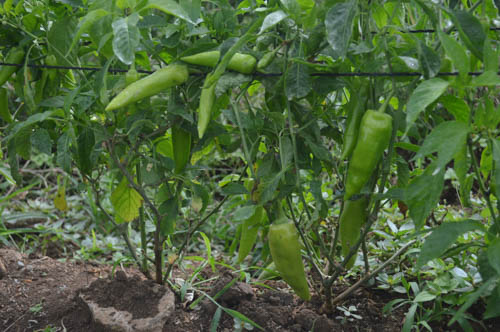ChiliPepper: (338, 114, 392, 198), (104, 66, 187, 110), (269, 224, 311, 299), (341, 81, 368, 164), (340, 201, 369, 273), (182, 51, 256, 78), (237, 210, 260, 269), (198, 83, 215, 137), (2, 49, 24, 83)
